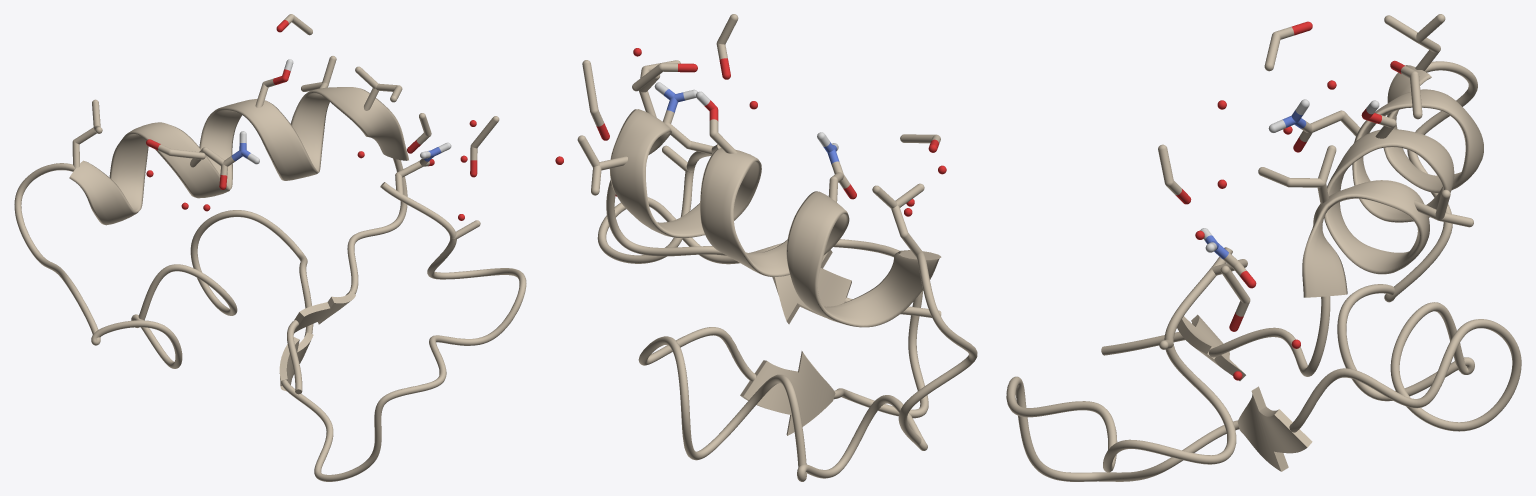
The model's file is crambin.glb.
3 views of the same model, side by side, from view 1: azimuth 30°, elevation 25°; view 2: azimuth 150°, elevation 25°; view 3: azimuth 270°, elevation 25° (orthographic). The views are drawn at different scales.
Visible parts, largest first — view 1: ribbons, bonds, atoms; view 2: ribbons, bonds, atoms; view 3: ribbons, bonds, atoms.
Part boxes in pixels (left/top/right/bottom): ribbons: left=14, top=87, right=526, bottom=481; bonds: left=72, top=14, right=497, bottom=239; atoms: left=72, top=14, right=499, bottom=239; ribbons: left=597, top=109, right=977, bottom=481; bonds: left=578, top=17, right=940, bottom=257; atoms: left=555, top=14, right=946, bottom=238; ribbons: left=1006, top=61, right=1521, bottom=481; bonds: left=1158, top=16, right=1471, bottom=349; atoms: left=1158, top=14, right=1473, bottom=380.
Bounding box in the file's own units: 25.91 × 22.09 × 21.98.
